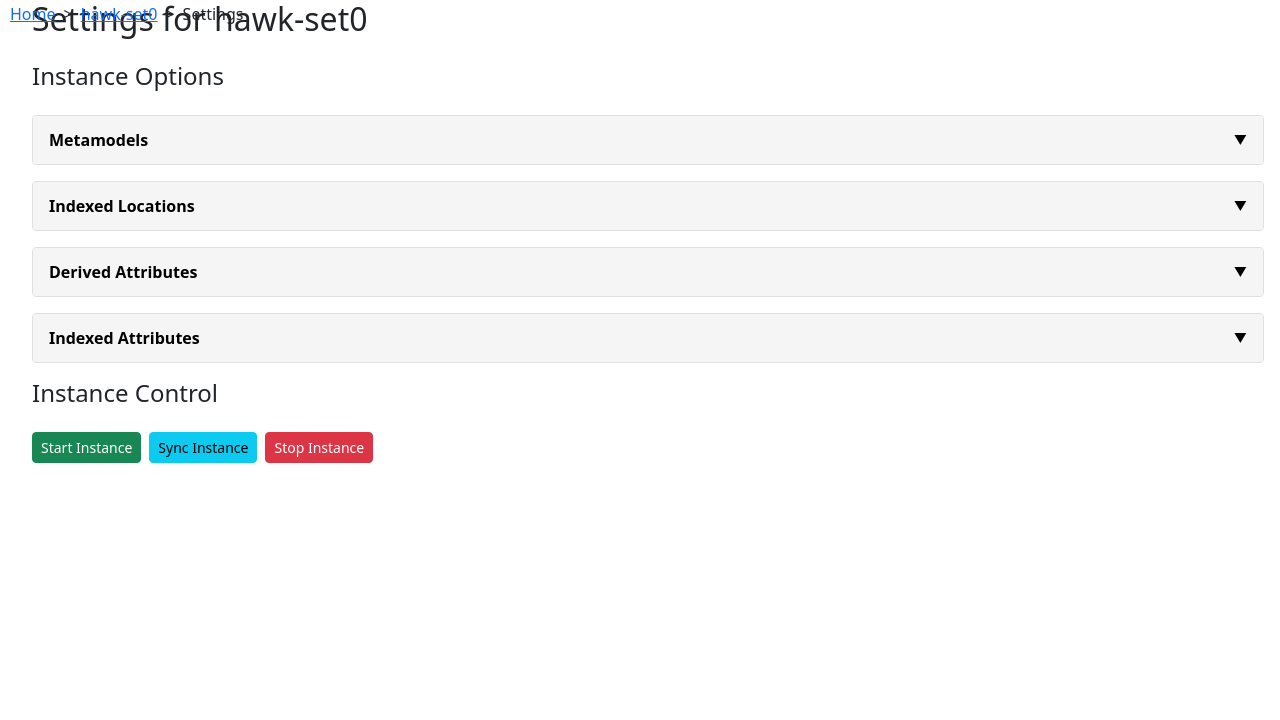
Test: SettingsContent › opens add indexed location modal
The image size is (1280, 720).
Click the button "Indexed Locations ▼": click(122, 206) [33,182,1263,230]
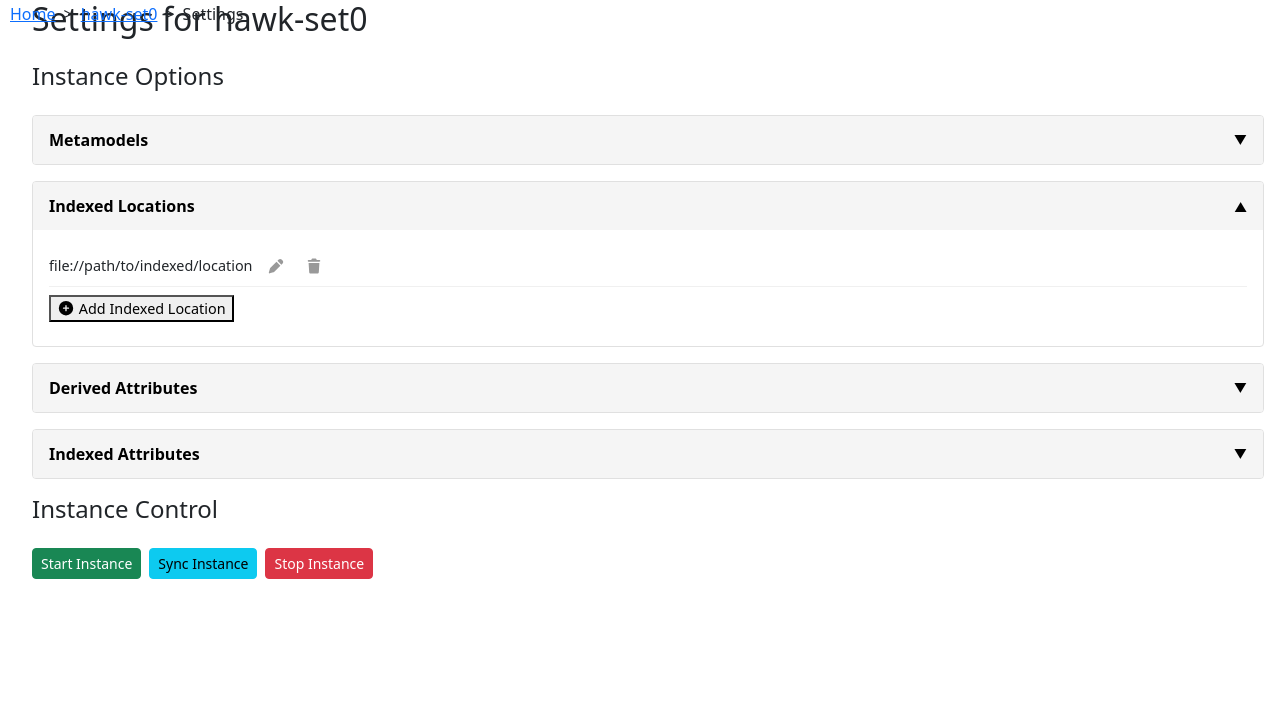
Expected: the text "file://path/to/indexed/location" is shown, [49,256,252,275]
Expected: the button "Add Indexed Location" is shown
Click the button "Add Indexed Location": click(141, 309) [49,295,234,322]
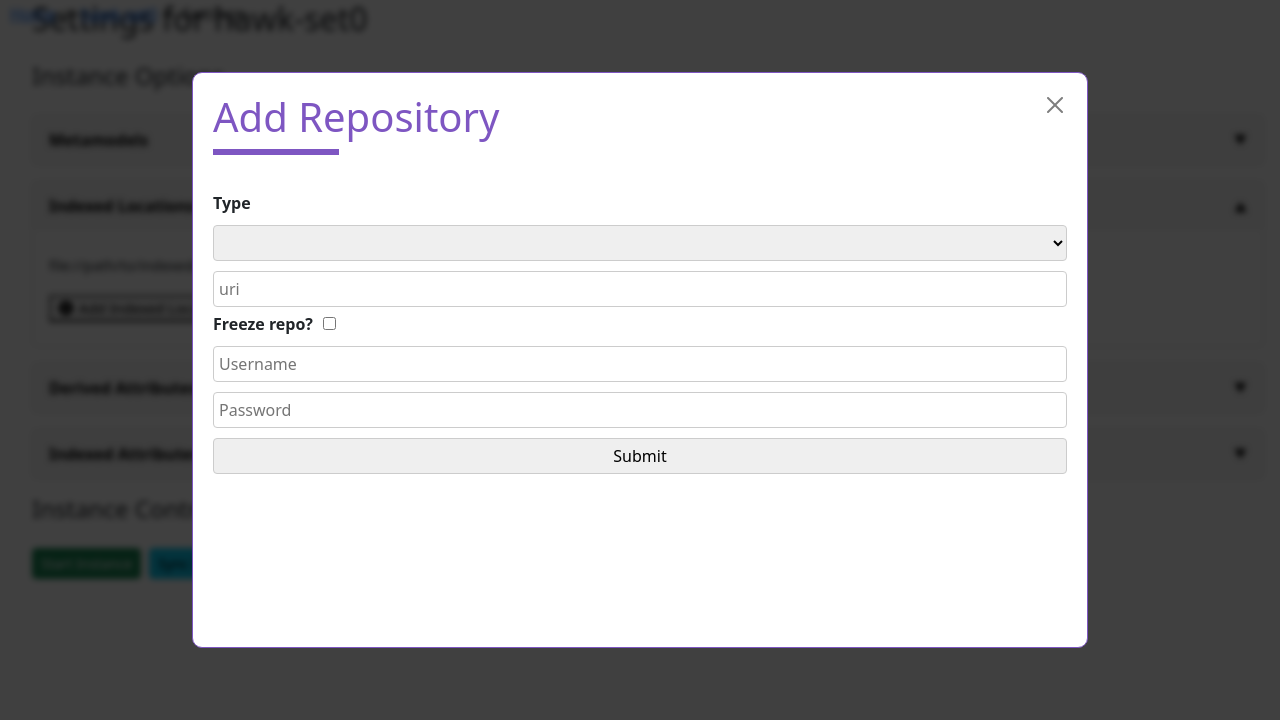
Expected: the heading "Add Repository" is shown, [213,93,500,141]
